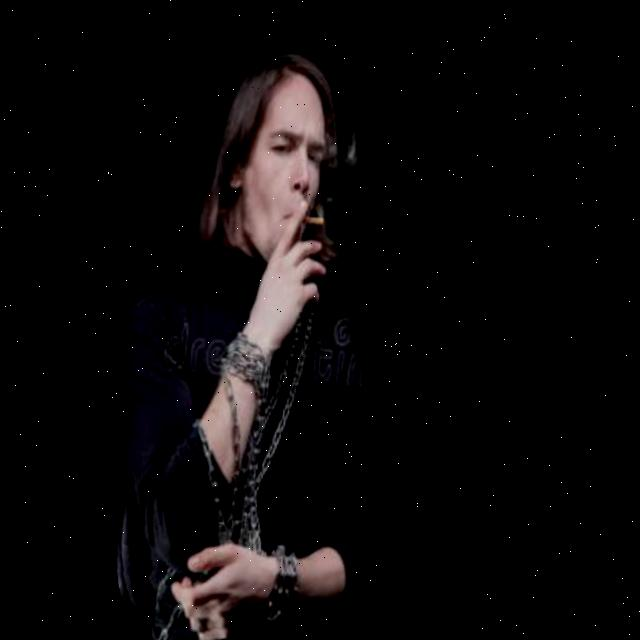cigarette: (304, 208, 331, 220)
